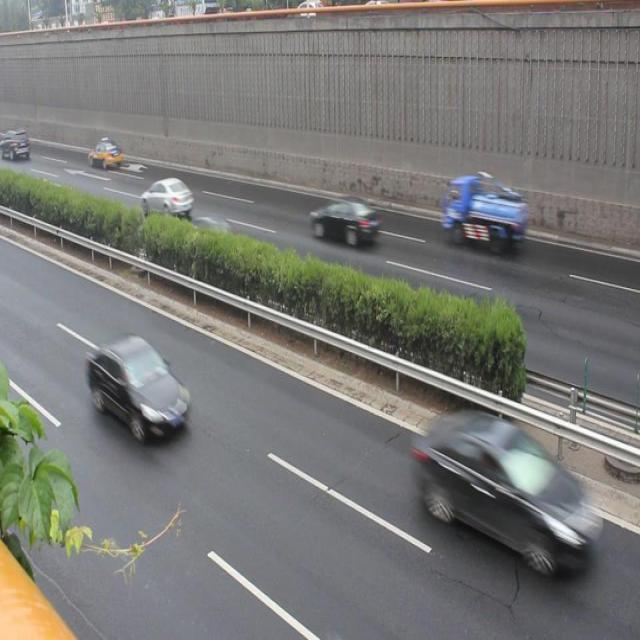bus: (445, 172, 530, 259)
car: (409, 396, 586, 585), (84, 331, 193, 452), (306, 189, 384, 257), (185, 201, 241, 264), (140, 166, 190, 223)
